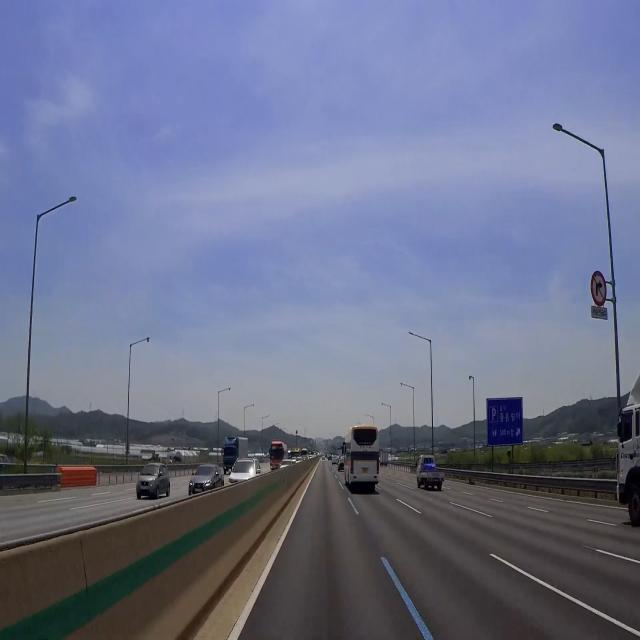car: (359, 461, 370, 477), (139, 483, 151, 496), (191, 485, 205, 496), (431, 476, 442, 487)
